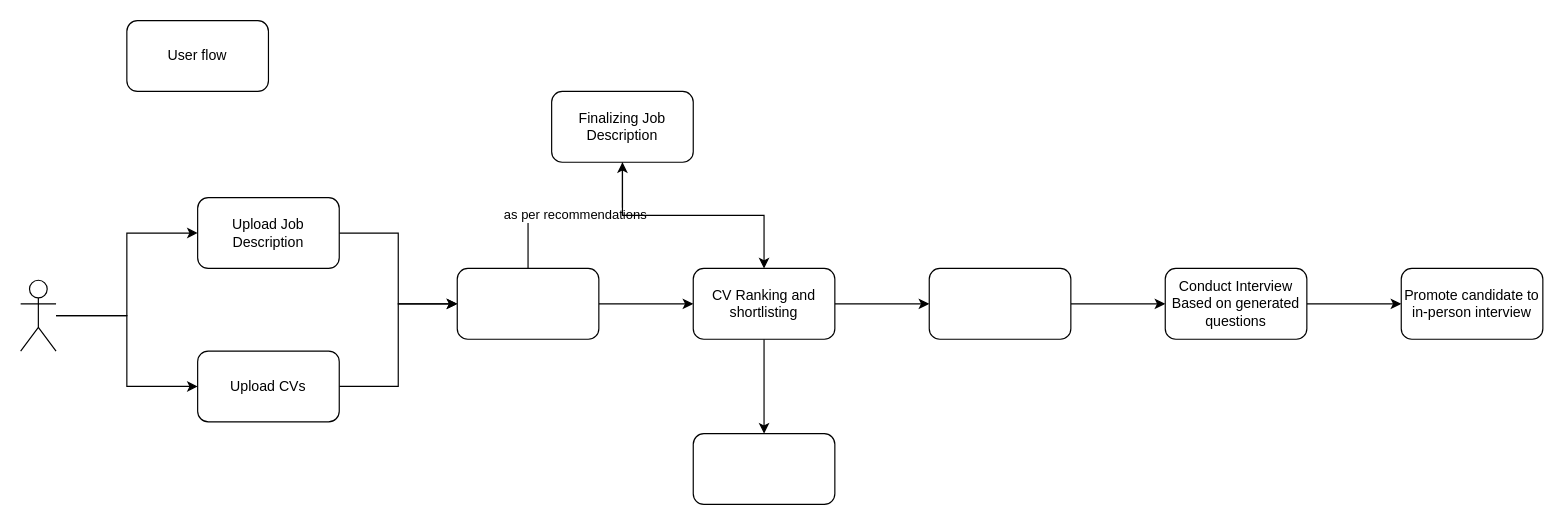
Image size: 1563x525. Some labels were removed from this diagram. The centre of each missing label's shape, as x and y in pixels:
"Analysis Service" goes at (527,303).
"Email Notifications" goes at (763,468).
"Generate Screening Questions" goes at (999,303).
"User" goes at (37,315).
